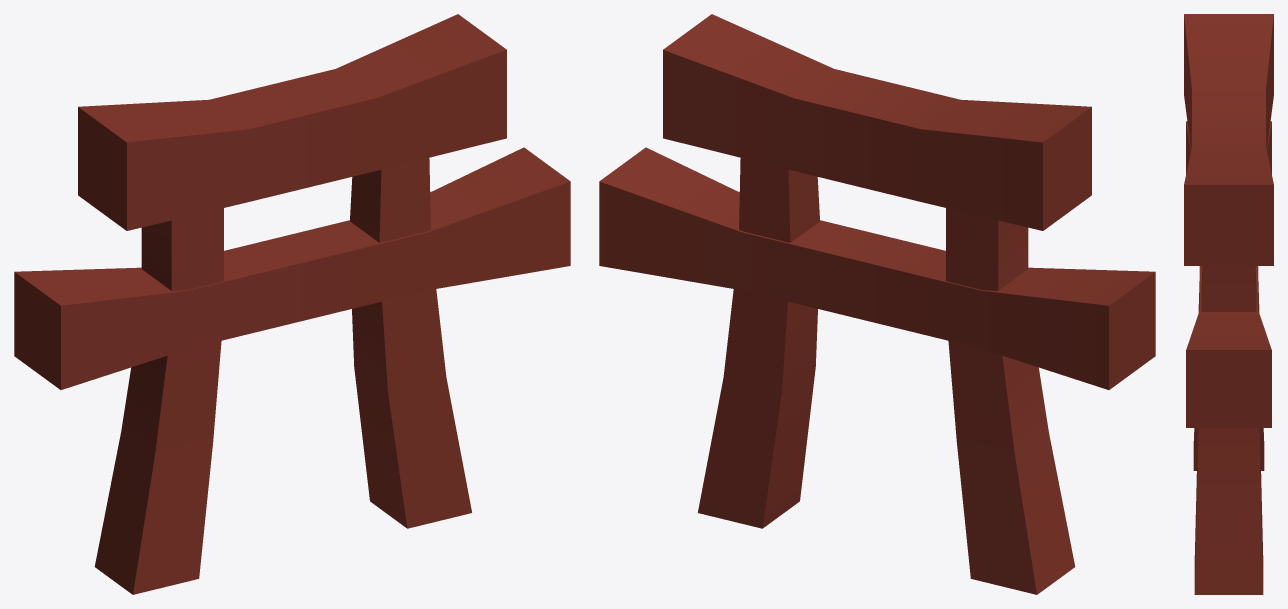
The model's file is M_trii.fbx.
3 renders of one model, left to right at view 1: azimuth 30°, elevation 25°; view 2: azimuth 150°, elevation 25°; view 3: azimuth 270°, elevation 25°, orthographic. The views are drawn at different scales.
Visible parts, largest first — view 1: M_trii; view 2: M_trii; view 3: M_trii.
Part boxes in pixels (<box>): M_trii: <box>14,14,570,594</box>; M_trii: <box>599,14,1155,594</box>; M_trii: <box>1184,14,1273,594</box>.
Size of the model in its own units: 1.34 by 1.16 by 0.2227.
